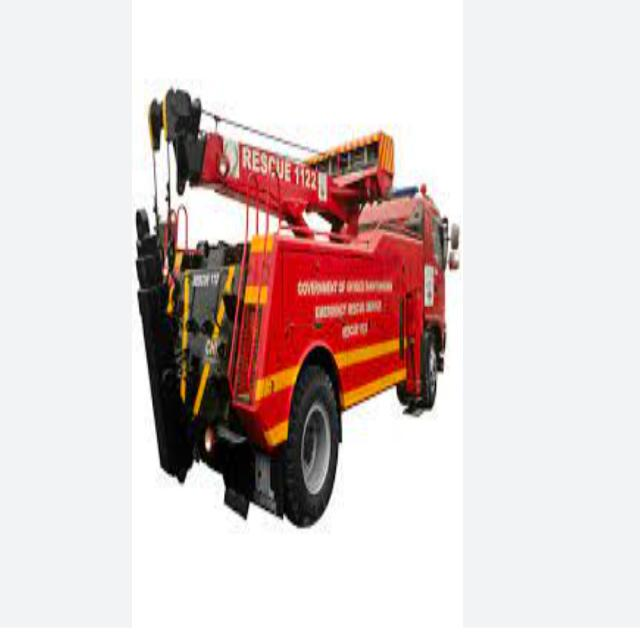fire brigade: (142, 69, 467, 482)
